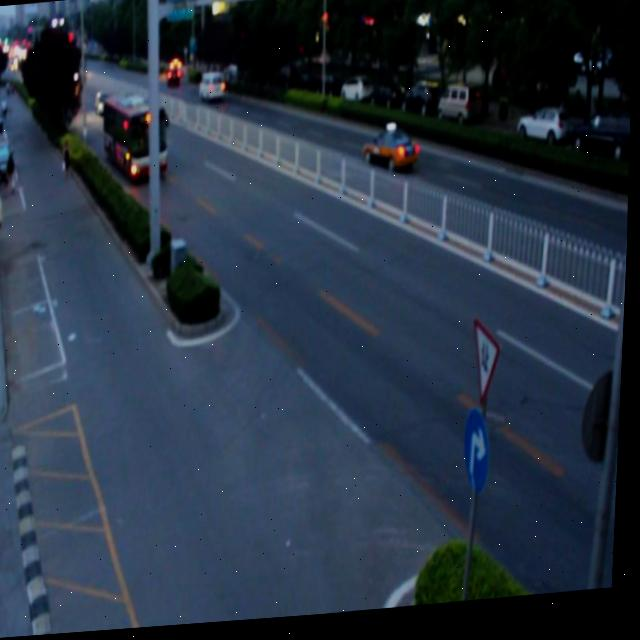car: (360, 129, 420, 180)
truck: (198, 73, 226, 106)
van: (101, 84, 171, 185)
